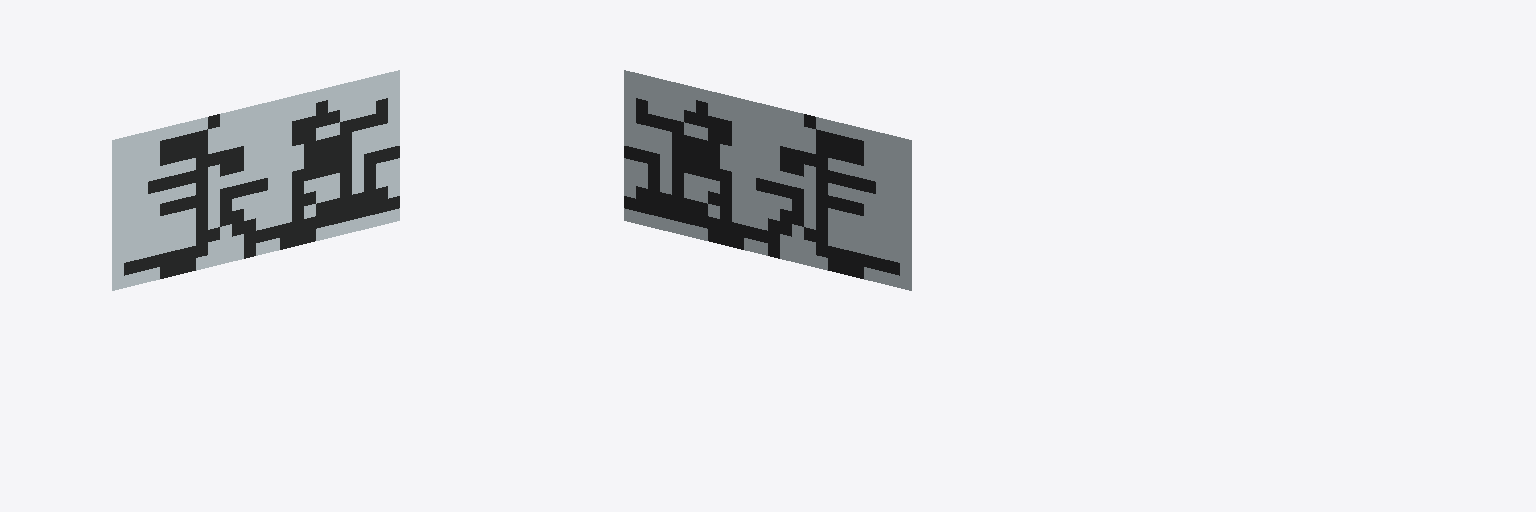
3 views of the same model, side by side, from view 1: azimuth 30°, elevation 25°; view 2: azimuth 150°, elevation 25°; view 3: azimuth 270°, elevation 25° (orthographic).
Visible parts, largest first — view 1: plane.002; view 2: plane.002; view 3: none.
Part boxes in pixels (bbox=[...]): plane.002: bbox=[112, 70, 399, 290]; plane.002: bbox=[624, 70, 911, 290].
Bounding box in the file's own units: 5.25 × 5.25 × 0.
Materials: 1 (1 with a texture image).